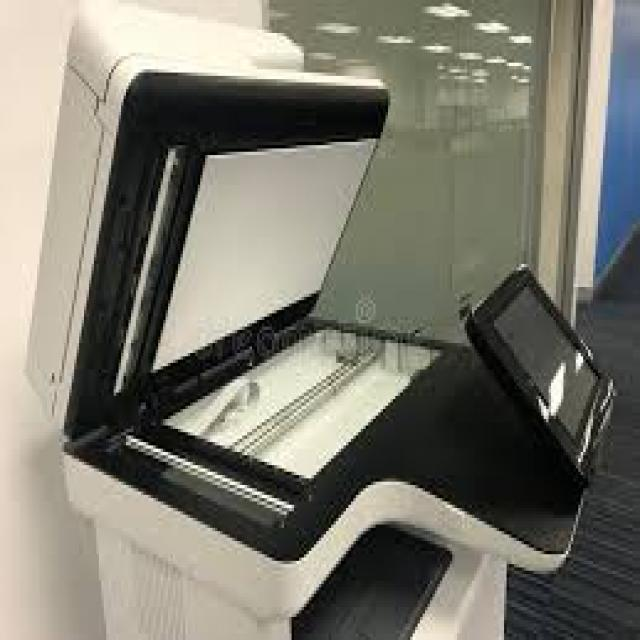printer: (7, 0, 621, 635)
